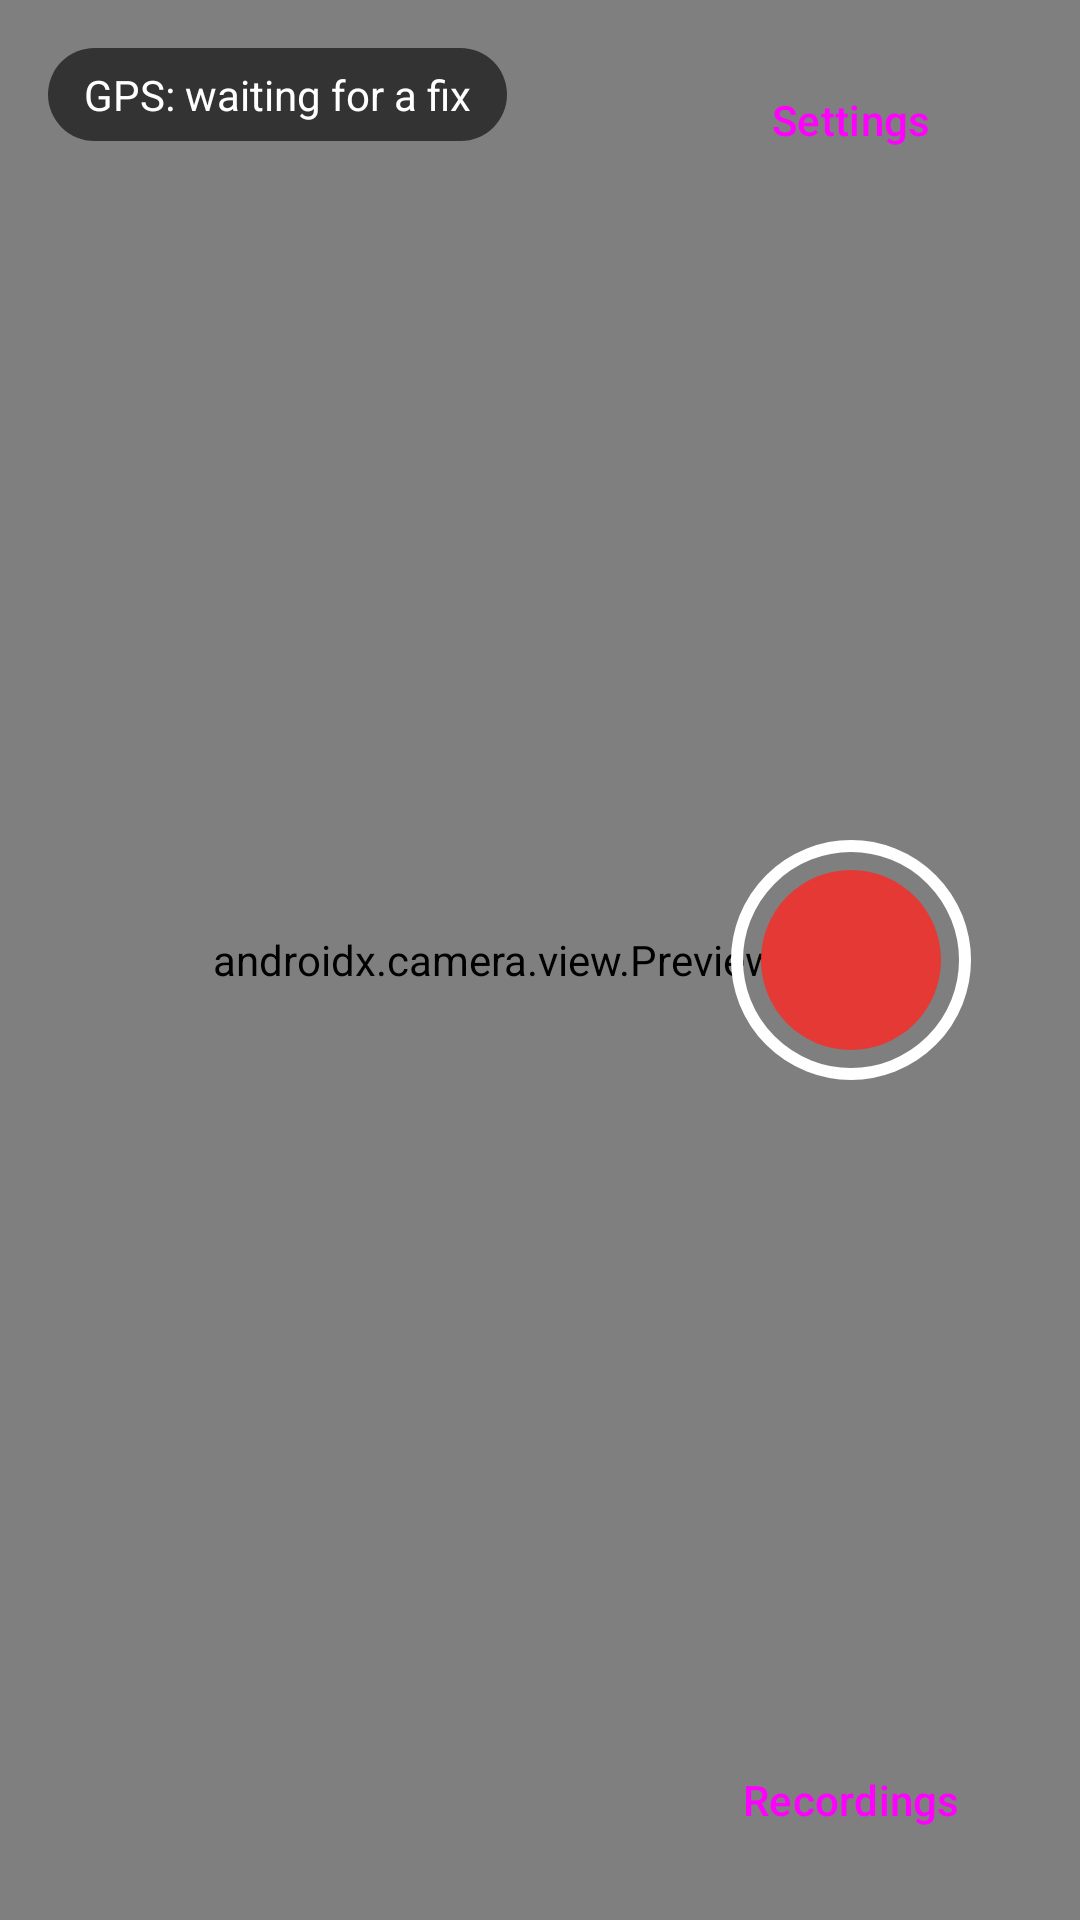

Icon click points for this 1080px×1920px phone screenshot, format (x,y):
Start recording: (843,960)
